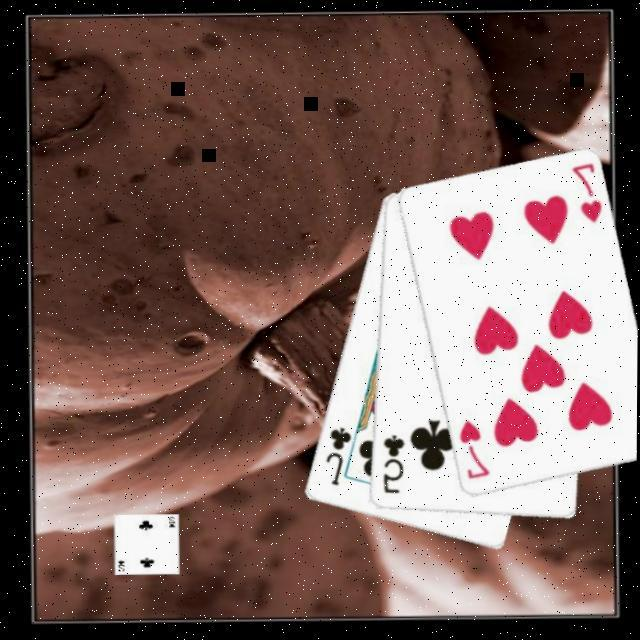5C: (378, 433, 407, 497)
7H: (454, 417, 492, 484), (567, 160, 604, 227)
JC: (321, 425, 354, 490)
